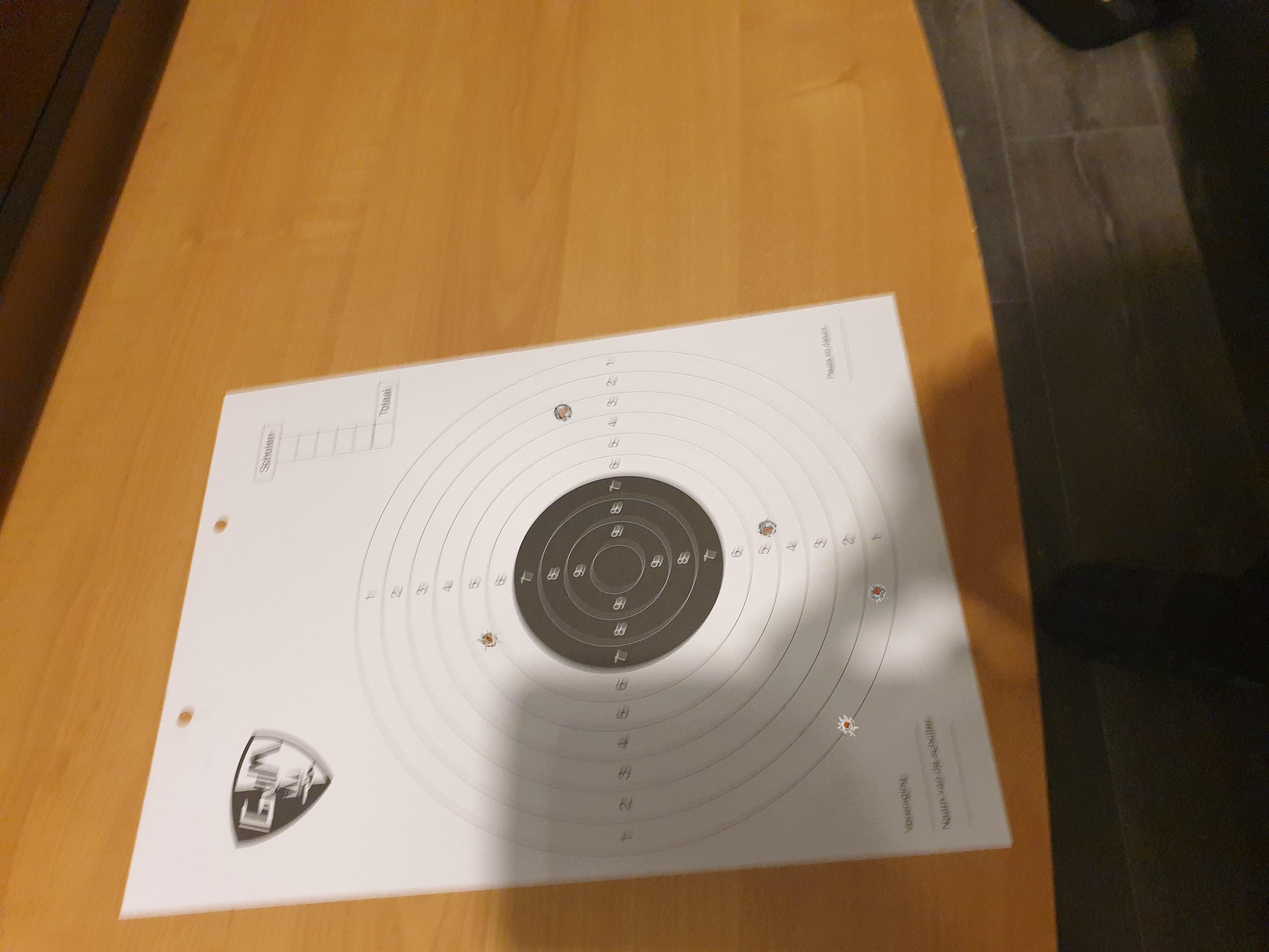hole: (477, 630, 502, 650), (837, 715, 857, 735), (757, 519, 778, 537), (868, 583, 886, 603), (554, 404, 573, 422)
